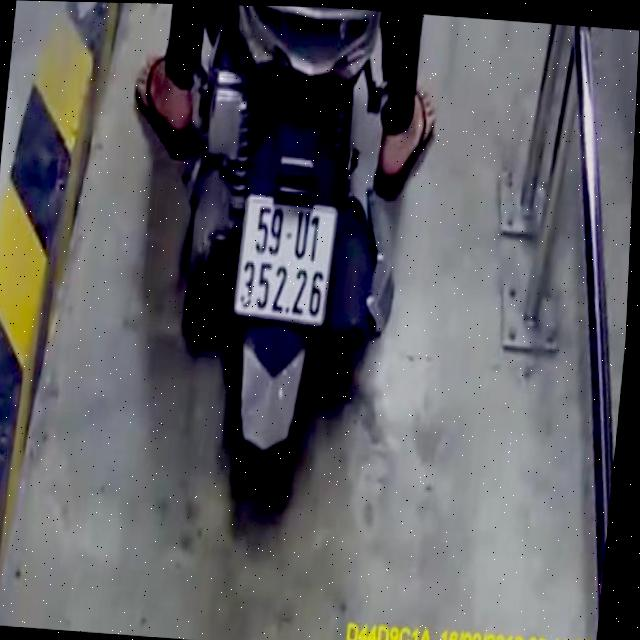motorcycle: (146, 4, 425, 502)
plate: (227, 190, 344, 332)
